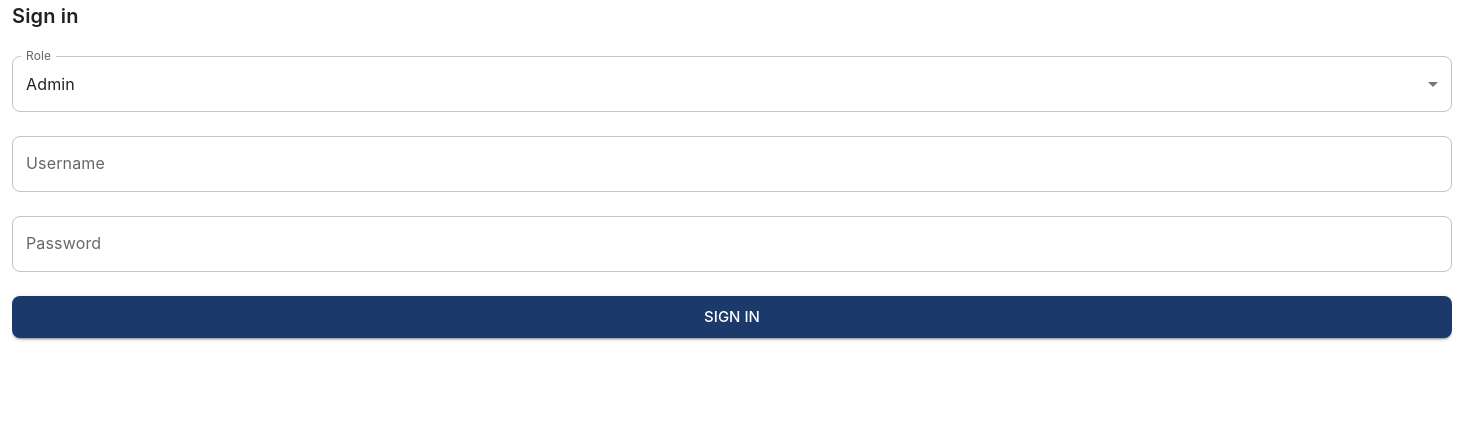
LoginPage › shows a lockout message on 423
Type "locked" into the field labelled "Username" at [732, 164], box [12, 136, 1452, 192]
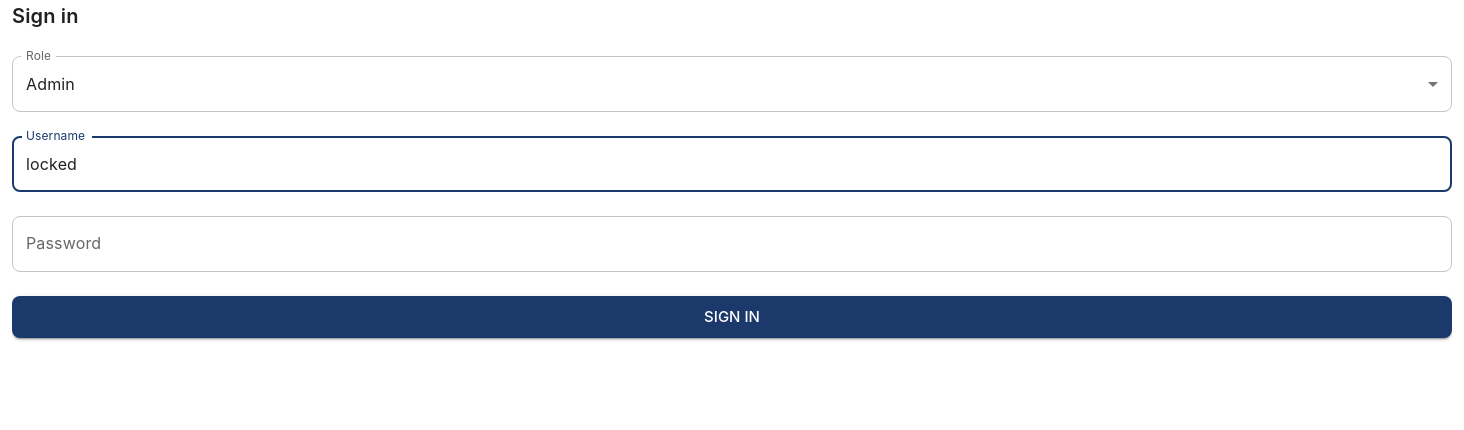
Type "whatever" into the password field labelled "Password" at [732, 244], box [12, 216, 1452, 272]
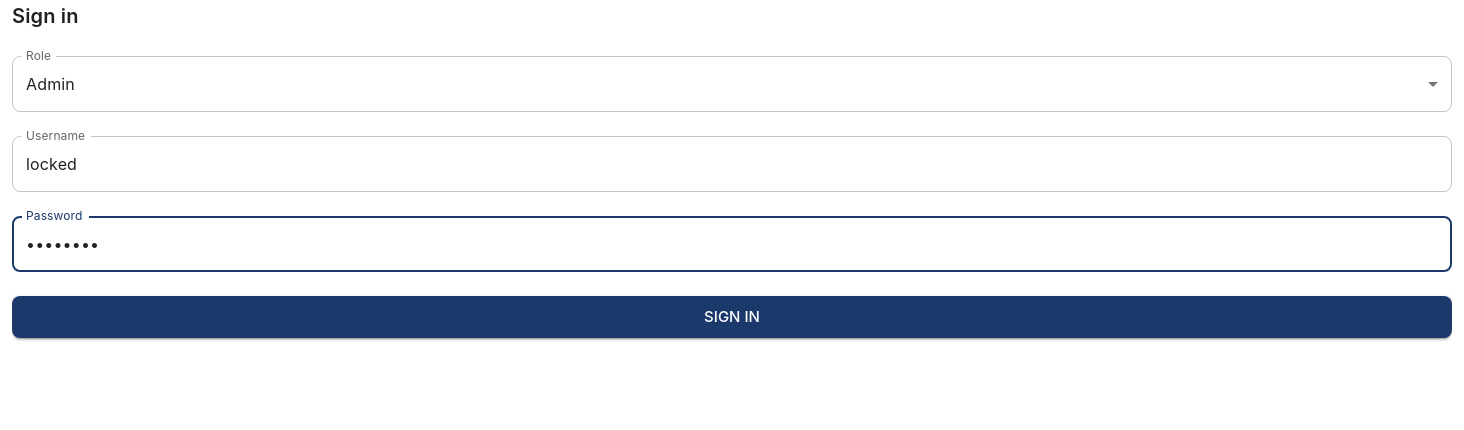
Click the button "Sign in" at [732, 317], box [12, 296, 1452, 338]
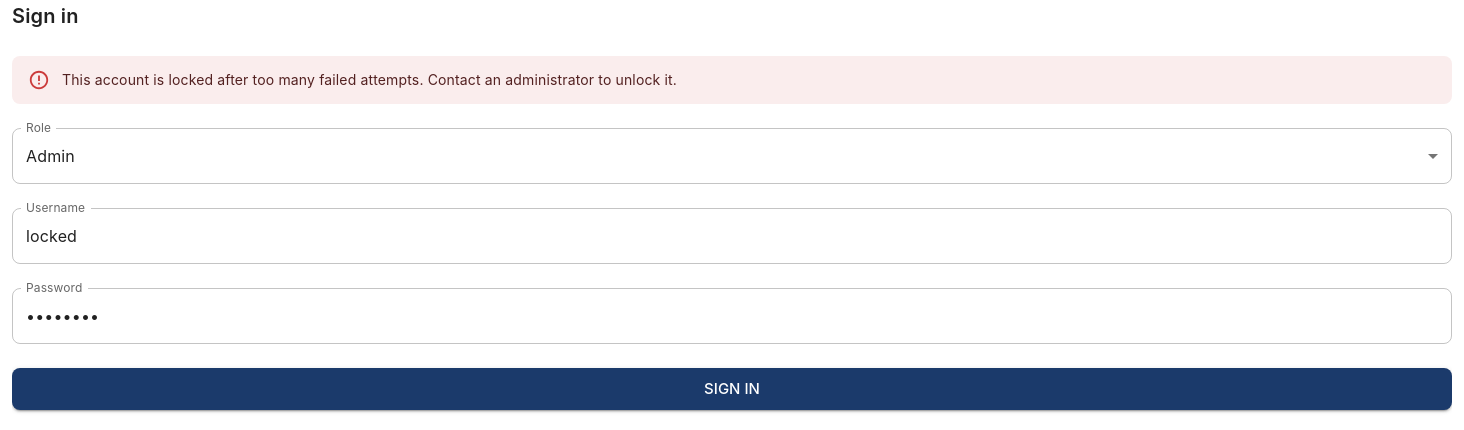
Now the text "locked after too many failed attempts" is shown, box [62, 71, 677, 88]
